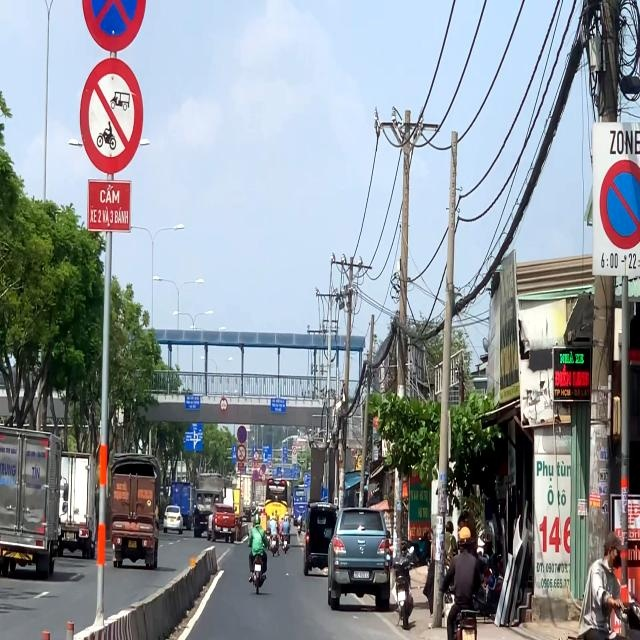bien_cam: (595, 156, 640, 249), (80, 0, 148, 55)
